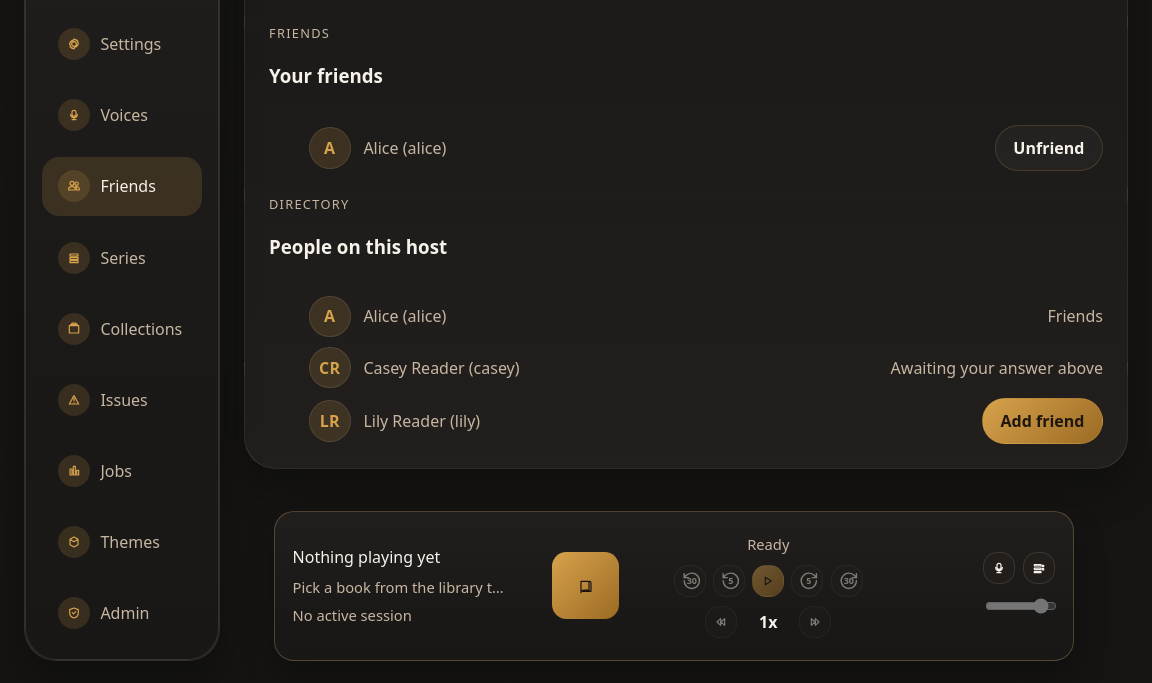
Test: FriendsPage › sends a friend request from the directory
The image size is (1152, 683).
(page scrolled)
Click the button "Add friend".
click(1042, 421)  # box [982,398,1103,444]
(page scrolled)
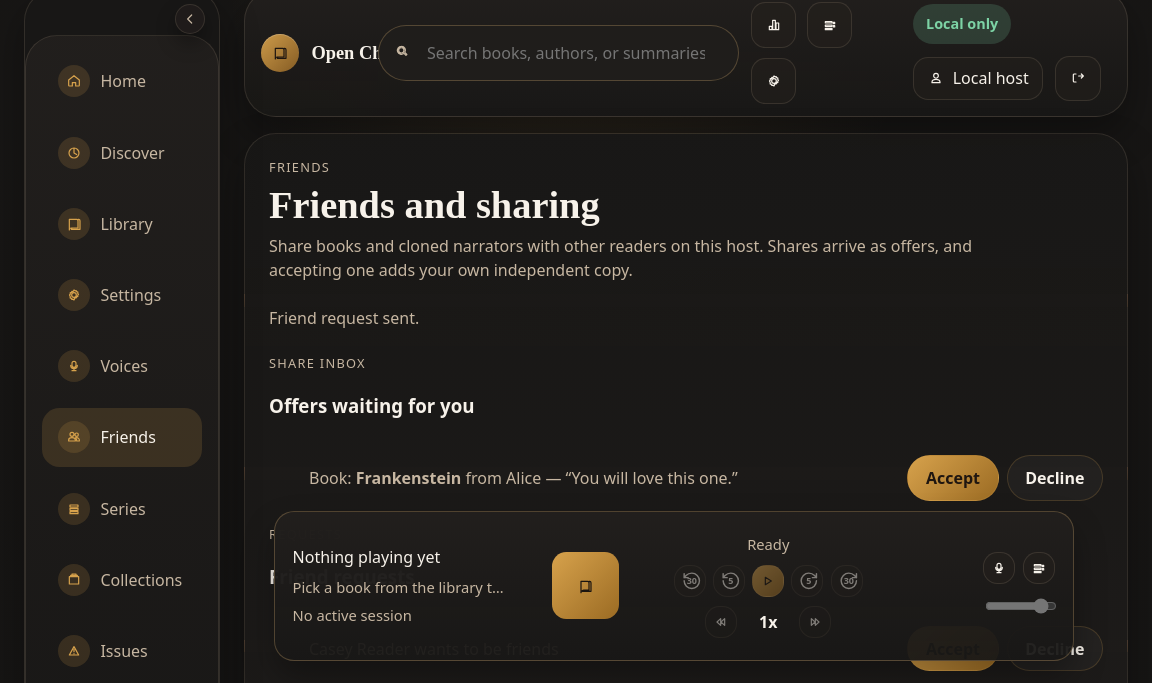
Now the text "Friend request sent." is shown, box [269,307,419,329]
